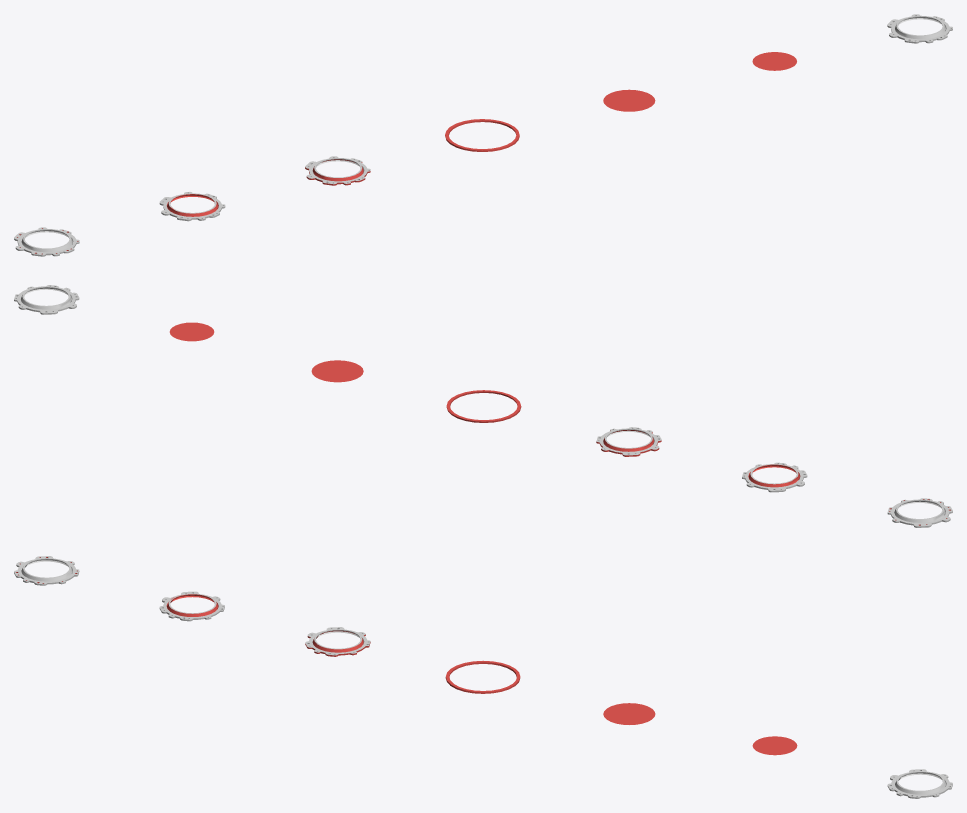
The model's file is Seal Plate.fbx.
3 renders of one model, top to bottom at view 1: azimuth 30°, elevation 25°; view 2: azimuth 150°, elevation 25°; view 3: azimuth 330°, elevation 25°, orthographic.
Parts seen in each view (by area): view 1: 9.D, 9, 9.G&H, 9.F, 9.B, 9.A, 9.C&E; view 2: 9.B, 9.F, 9, 9.D, 9.G&H, 9.A, 9.C&E; view 3: 9, 9.F, 9.G&H, 9.D, 9.B, 9.A, 9.C&E.
Part boxes in pixels (x1,y1,x2,y2): 9.D: [305, 156, 370, 185]; 9: [887, 14, 952, 43]; 9.G&H: [14, 227, 79, 256]; 9.F: [159, 192, 225, 221]; 9.B: [603, 89, 655, 111]; 9.A: [752, 52, 796, 70]; 9.C&E: [445, 119, 519, 151]; 9.B: [311, 360, 363, 382]; 9.F: [742, 462, 807, 492]; 9: [14, 285, 79, 314]; 9.D: [596, 427, 661, 456]; 9.G&H: [887, 498, 952, 527]; 9.A: [169, 322, 214, 341]; 9.C&E: [446, 390, 521, 422]; 9: [887, 769, 952, 798]; 9.F: [159, 591, 224, 621]; 9.G&H: [14, 556, 79, 585]; 9.D: [305, 627, 370, 656]; 9.B: [603, 703, 655, 724]; 9.A: [752, 736, 797, 755]; 9.C&E: [445, 660, 520, 693].
Size of the model in its own units: 639 by 2.54 by 44.51.
